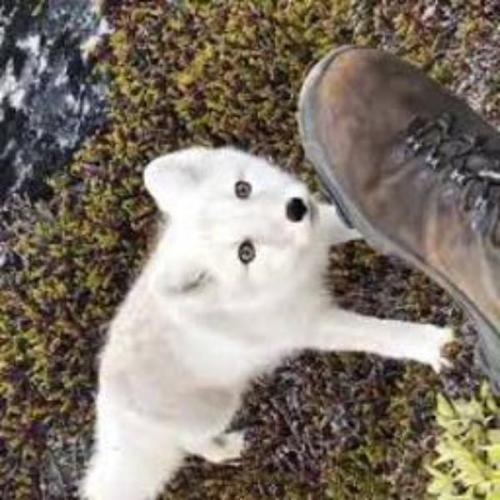arctic_fox-endangered: (88, 149, 438, 500)
